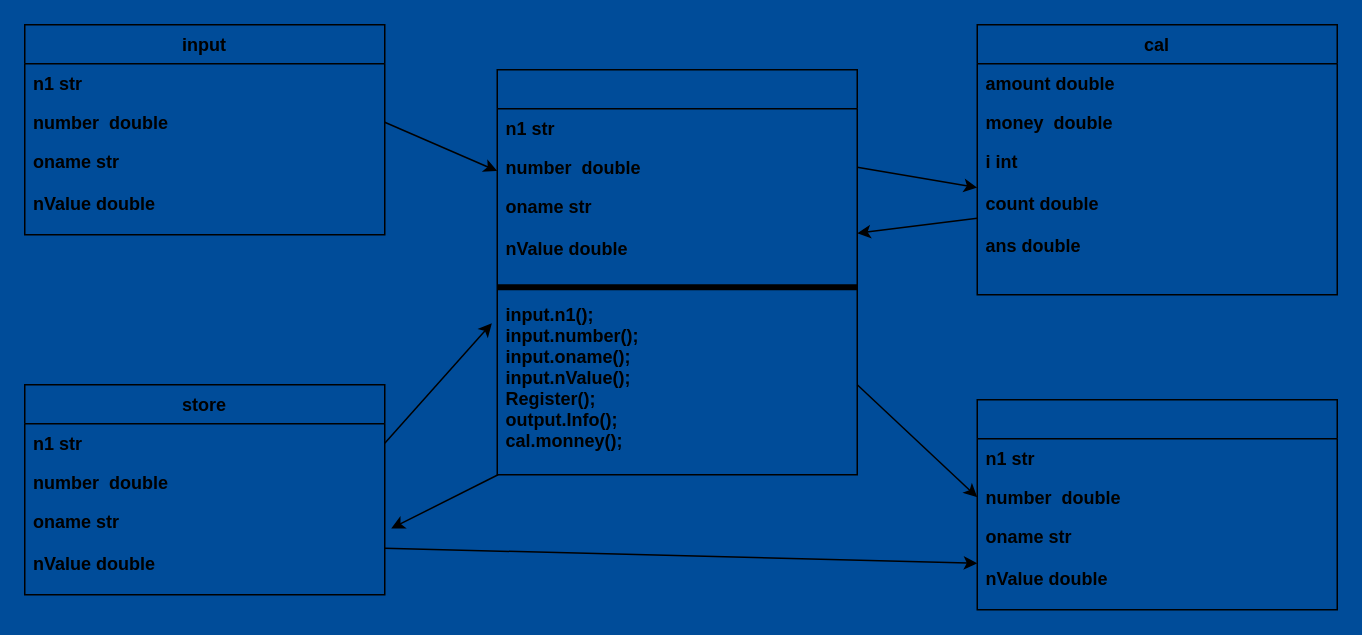
The diagram is 1362 pixels wide and 635 high, and some of its shapes have lost their labels. The box of each missing label's shape, as (x1, y1, x2, y2) in pixels:
output: (976, 398, 1337, 610)
Program: (496, 68, 857, 475)
